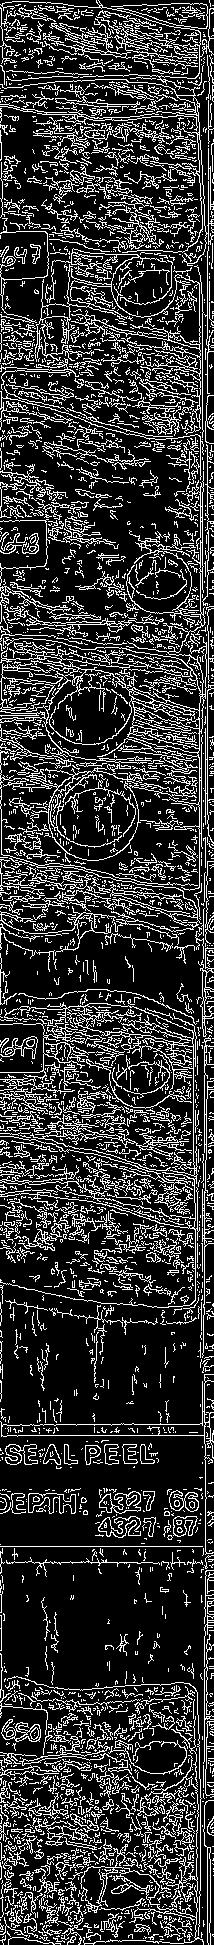hplug: (120, 547, 202, 621), (101, 1041, 182, 1115), (120, 1720, 194, 1791), (106, 256, 184, 321)
scal: (40, 665, 140, 765), (45, 767, 143, 865)
vplug: (26, 233, 84, 373), (16, 1005, 74, 1145)
